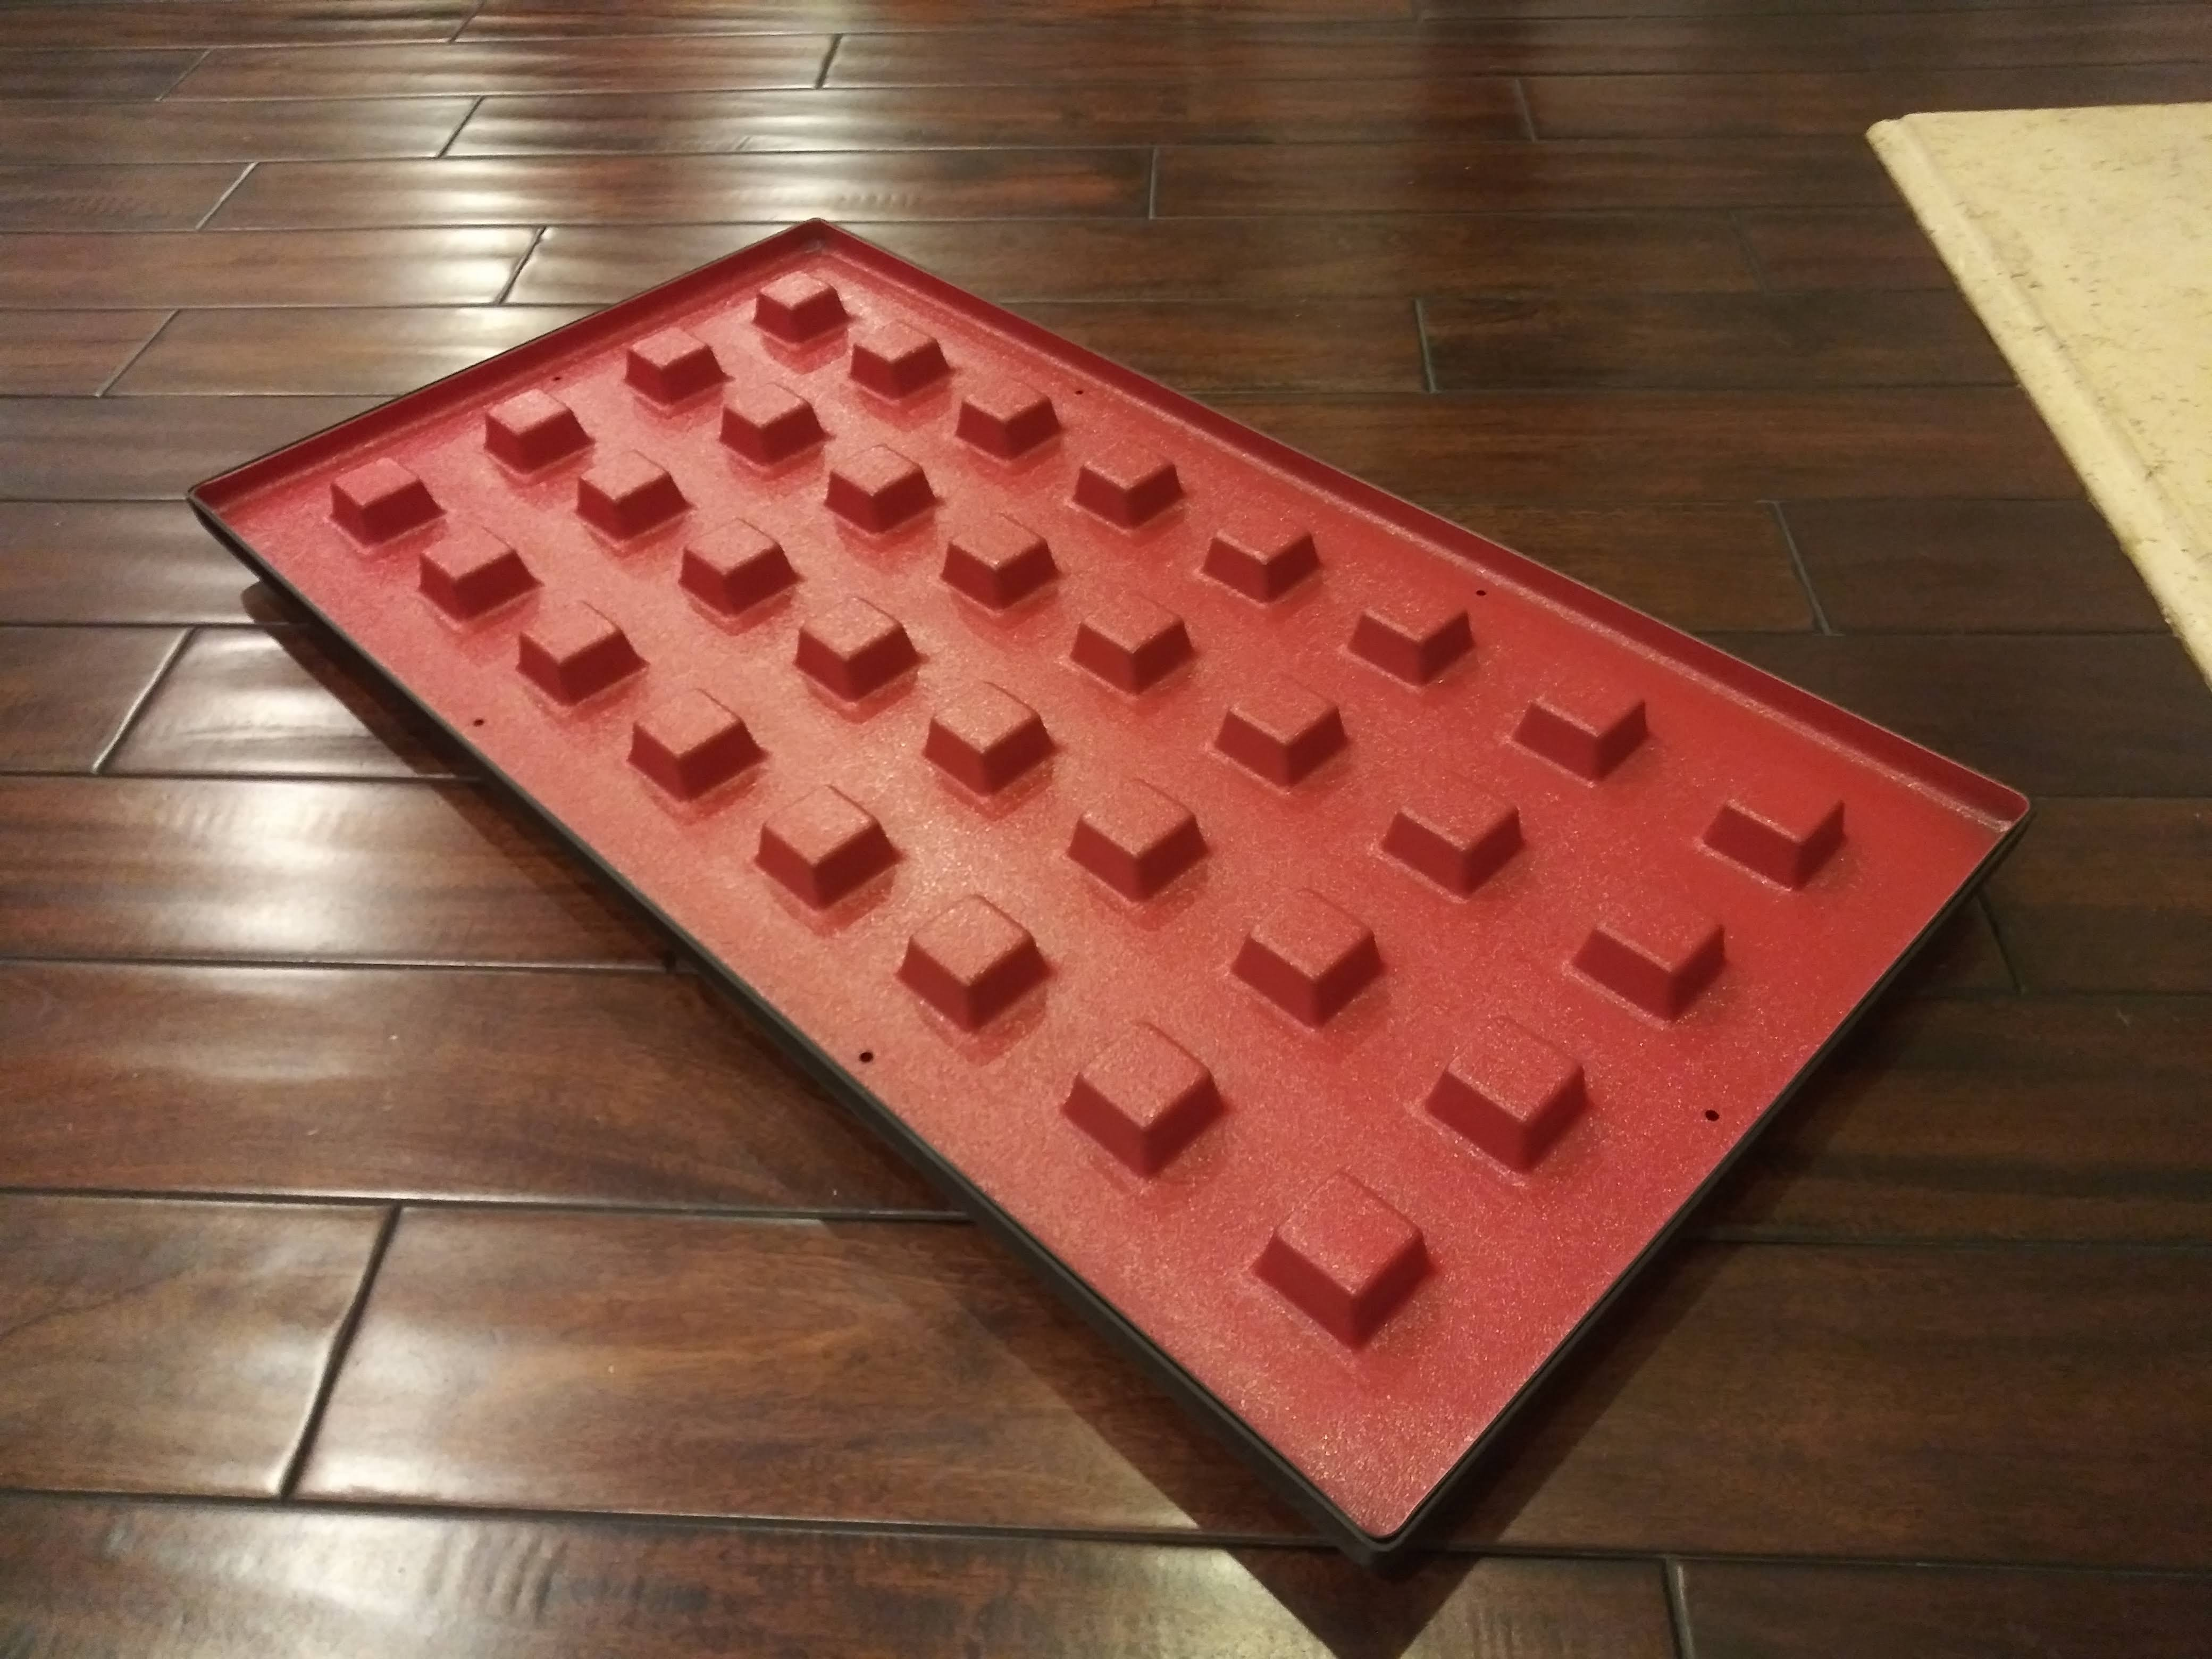red foundation: (113, 202, 2003, 1462)
